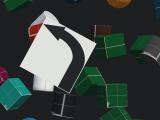Left: (19, 16, 96, 94)
